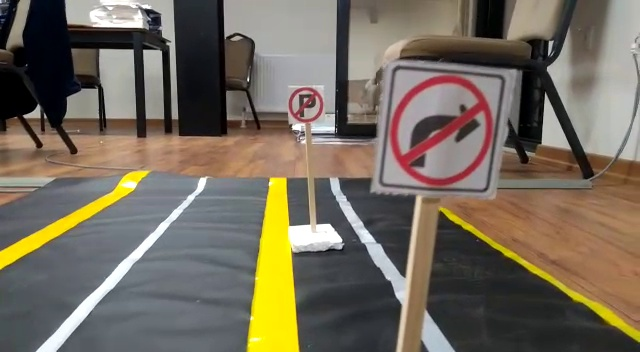park_yapilmaz: (285, 85, 325, 122)
saga_donulmez: (385, 63, 495, 189)
